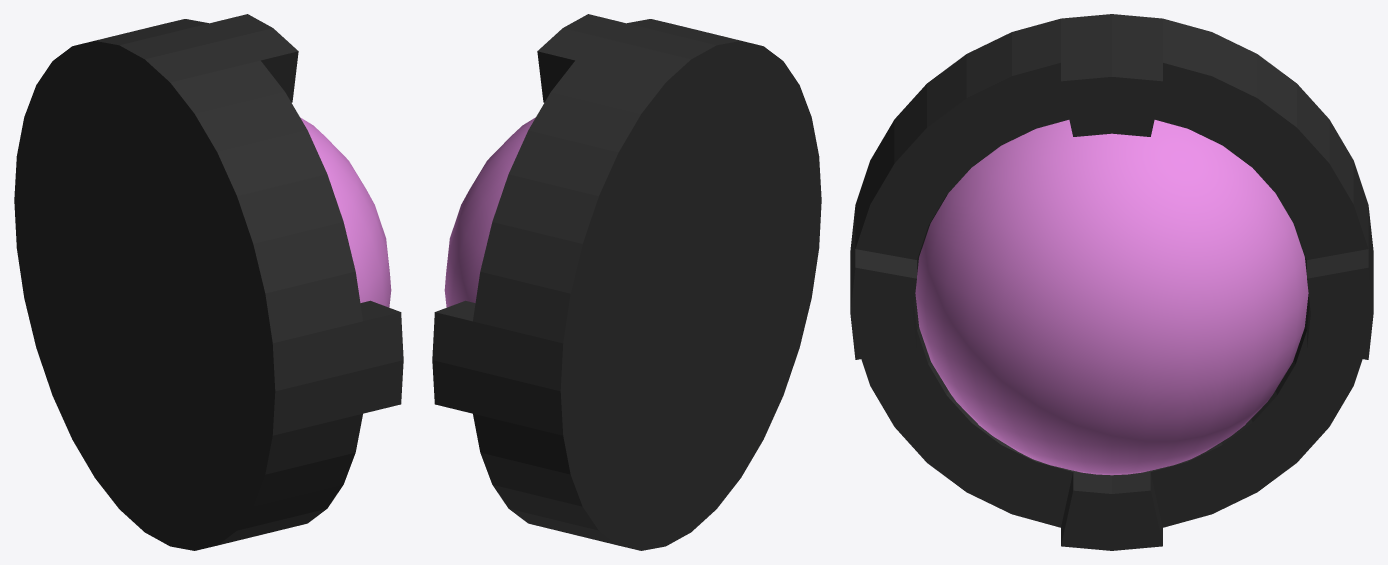
File: hintlight.fbx
3 renders of one model, left to right at view 1: azimuth 30°, elevation 25°; view 2: azimuth 150°, elevation 25°; view 3: azimuth 270°, elevation 25°, orthographic.
Visible parts, largest first — view 1: Cylinder.008; view 2: Cylinder.008; view 3: Cylinder.008.
Part boxes in pixels (box(x1,y1,x2,y2)): Cylinder.008: box(14, 14, 403, 550); Cylinder.008: box(432, 14, 821, 550); Cylinder.008: box(850, 14, 1373, 550).
Bounding box in the file's own units: 0.7007 × 1.44 × 1.44.
